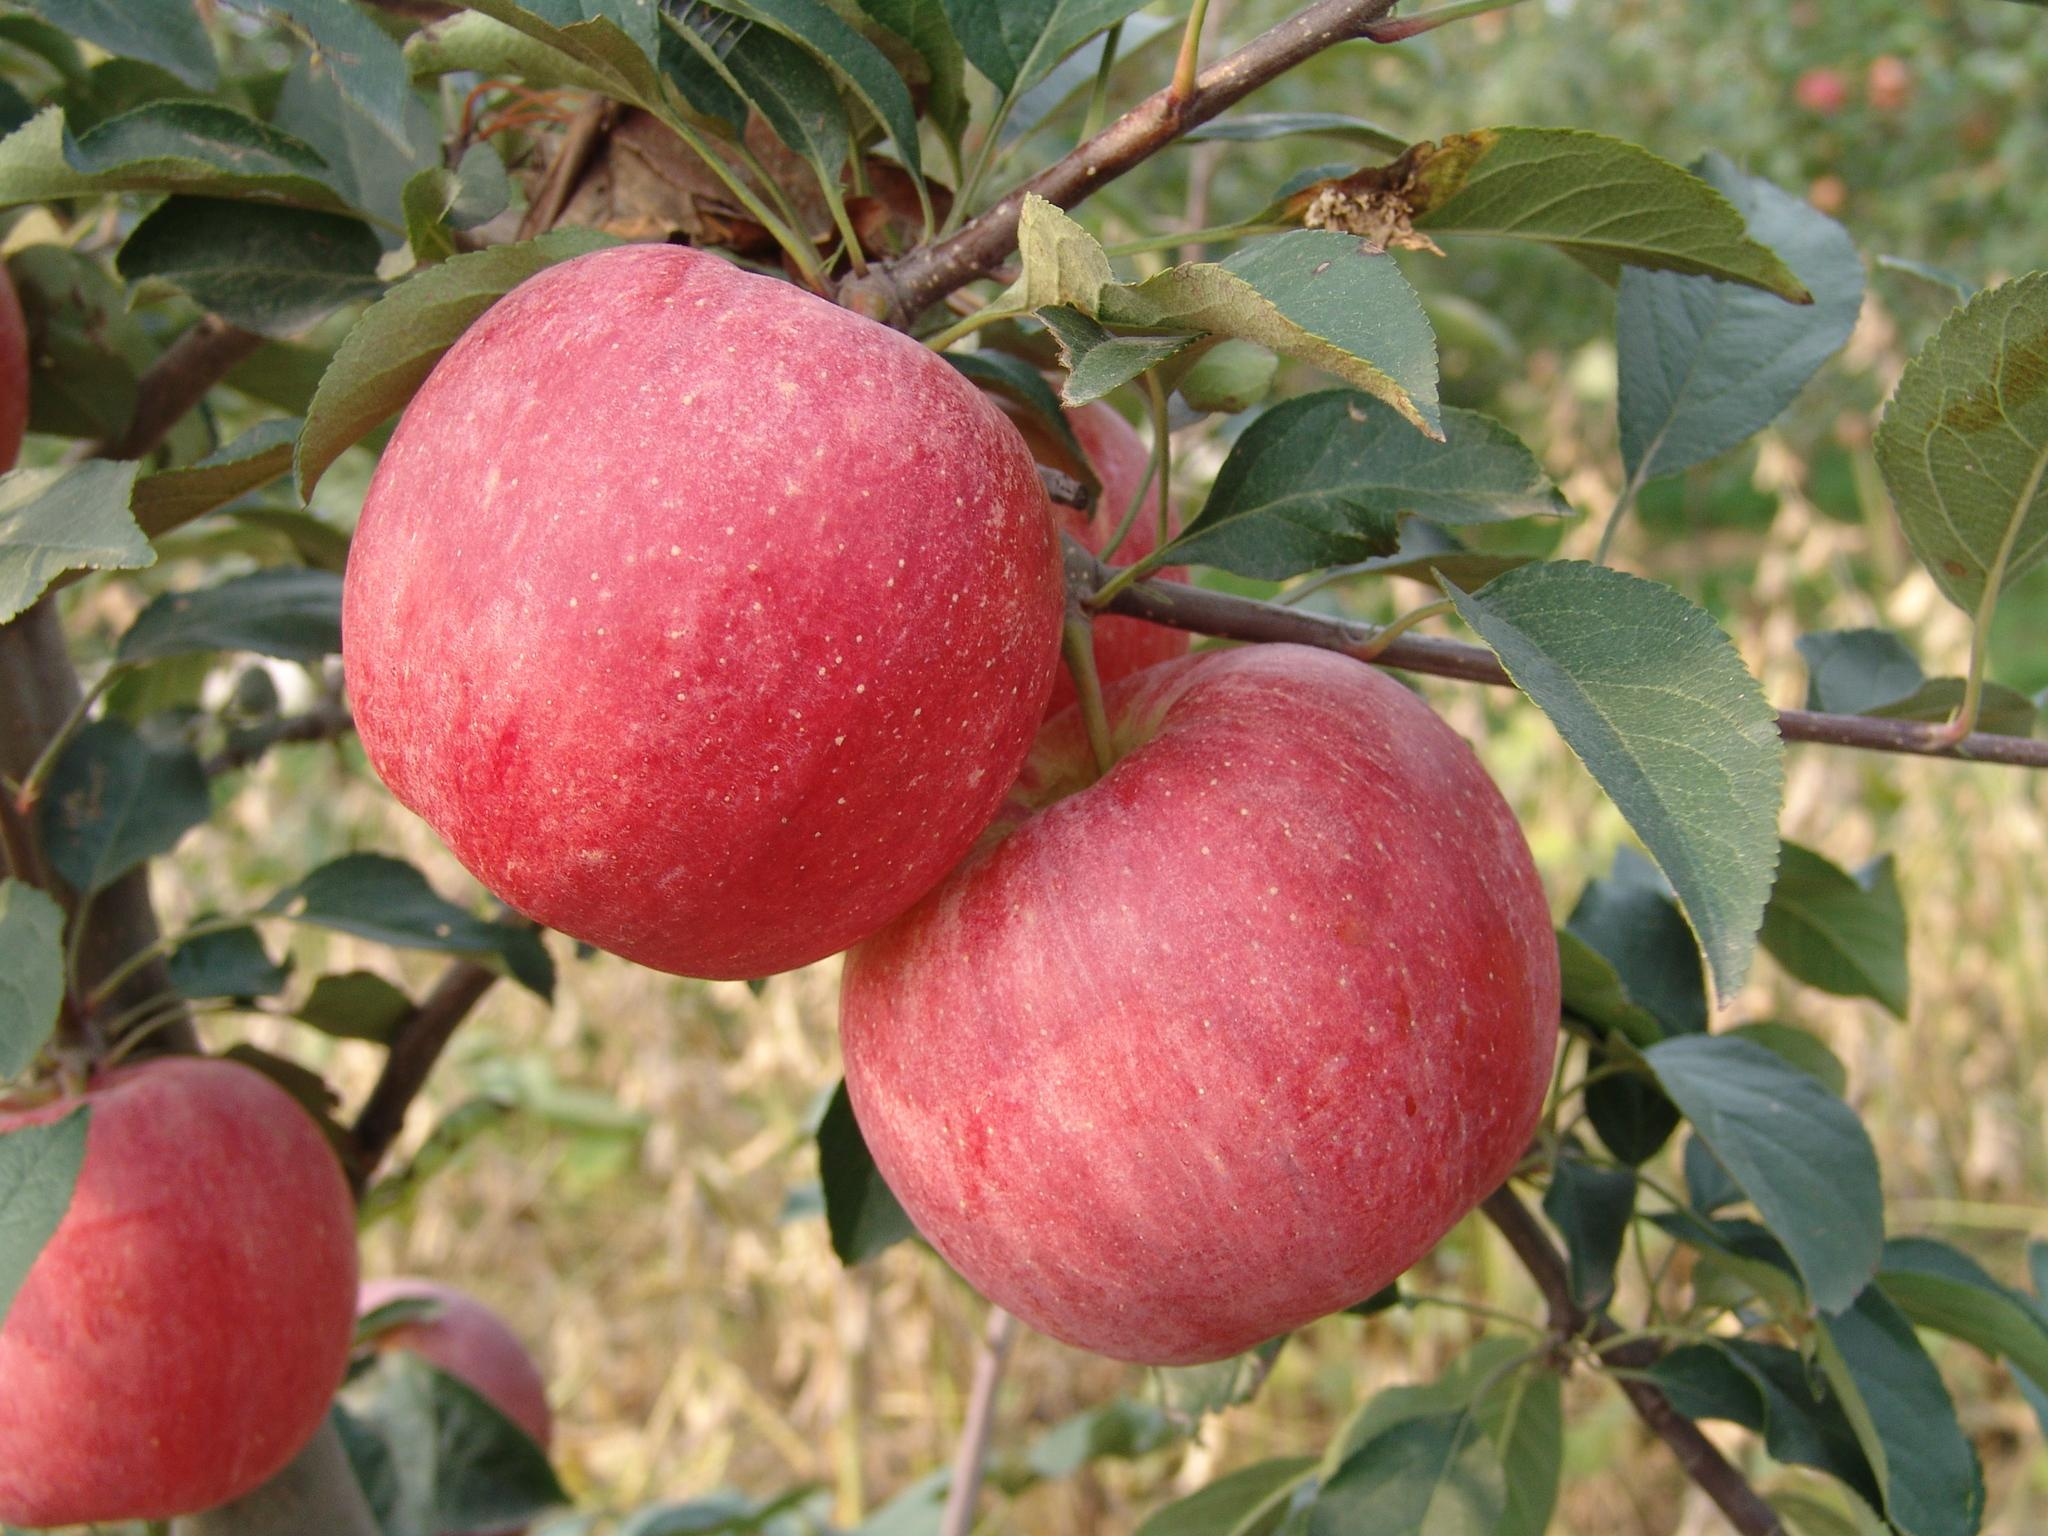apple: (834, 634, 1567, 1362), (337, 255, 1066, 963), (2, 1052, 356, 1525)
